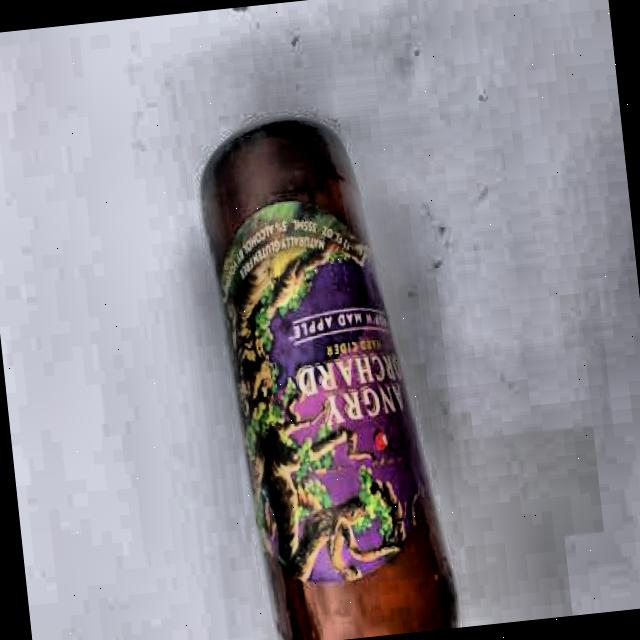glass: (186, 104, 466, 640)
